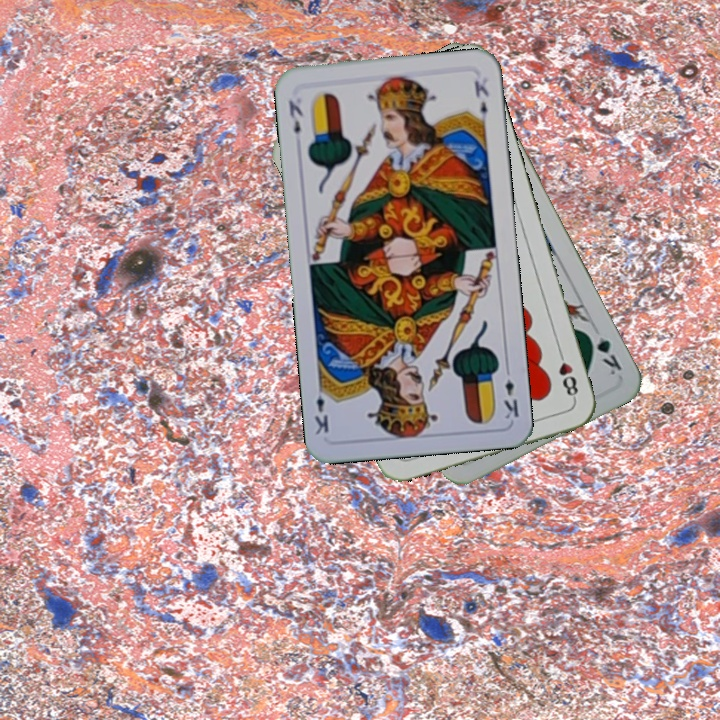EK: (500, 362, 522, 422), (284, 96, 306, 137)
GK: (582, 328, 624, 378)
H8: (554, 345, 581, 403)
